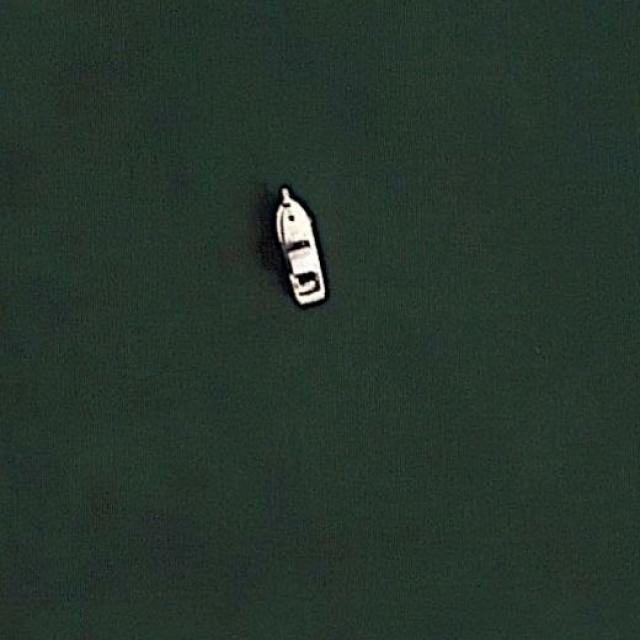ship: (262, 179, 328, 309)
